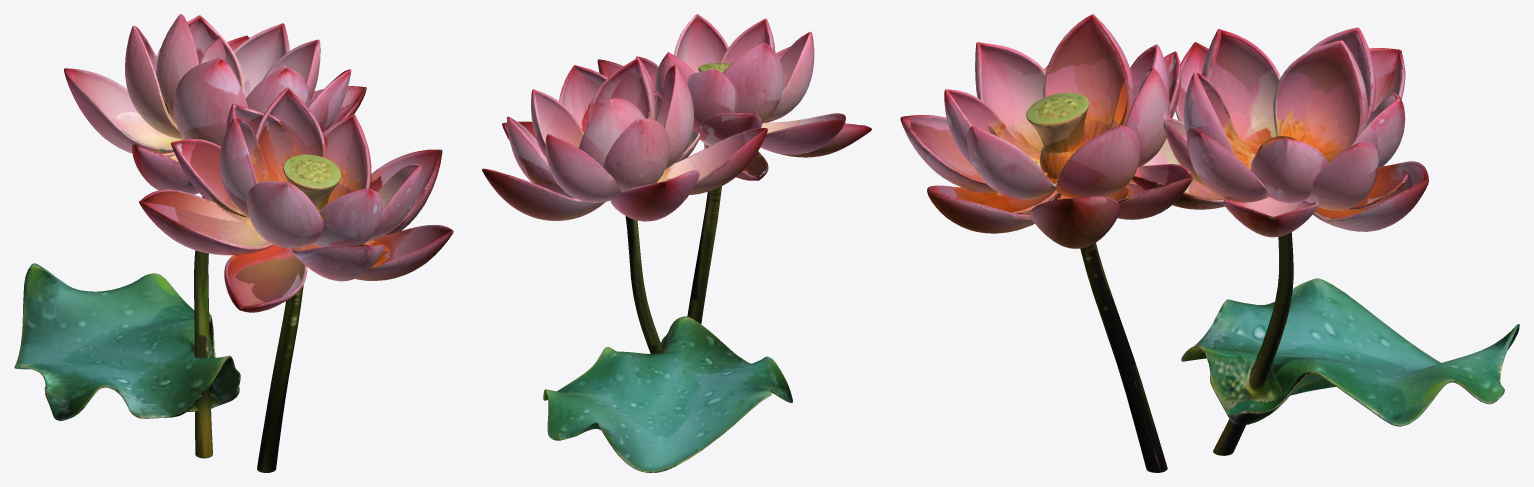
3 renders of one model, left to right at view 1: azimuth 30°, elevation 25°; view 2: azimuth 150°, elevation 25°; view 3: azimuth 270°, elevation 25°, orthographic. The views are drawn at different scales.
Visible parts, largest first — view 1: world; view 2: world; view 3: world.
Boxes of the visible parts, x1,y1,x2,y2 form: world: [14, 14, 453, 472]; world: [482, 14, 871, 472]; world: [900, 14, 1519, 472].
Size of the model in its own units: 0.3893 by 0.45 by 0.5869.
Materials: 1 (1 with a texture image).
